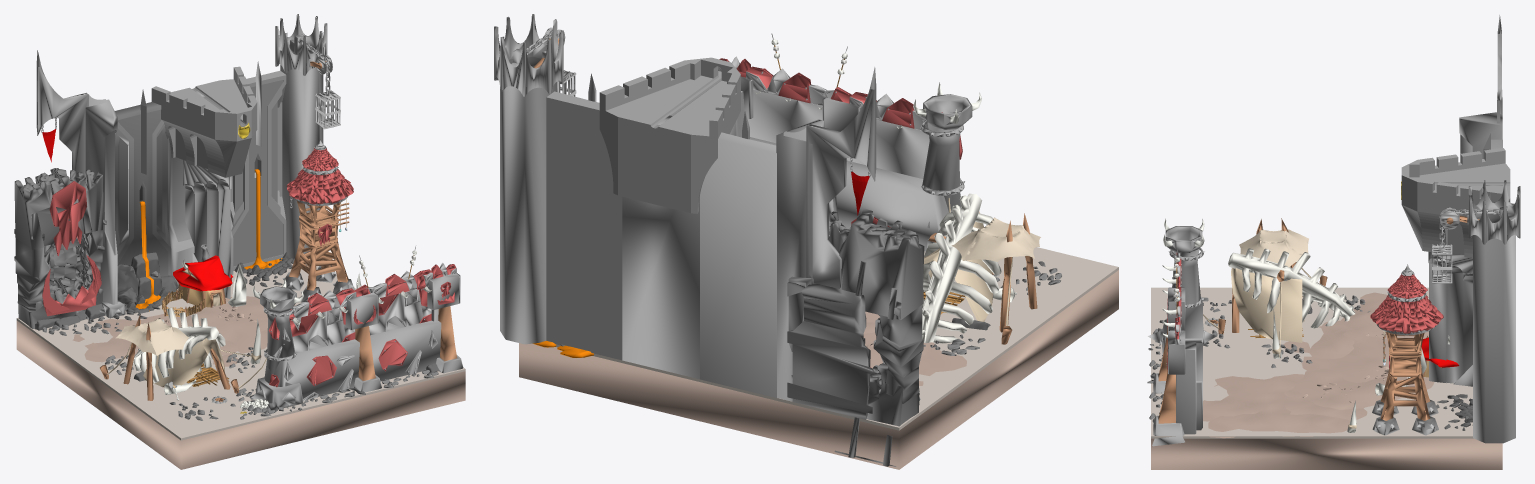
The model's file is Assets_Scenario_3.fbx.
3 renders of one model, left to right at view 1: azimuth 30°, elevation 25°; view 2: azimuth 150°, elevation 25°; view 3: azimuth 270°, elevation 25°, orthographic. The views are drawn at different scales.
Visible parts, largest first — view 1: Cube (1), Cube, Prop_Building_Dark_Fantasy_Fort_Wall_Window_01 (1), Prop_Building_Dark_Fantasy_Fort_Outcrop_01, Prop_Building_Dark_Fantasy_Fort_Wall_Window_01 (2), Prop_Building_Dark_Fantasy_Fort_Tower_Simple_01, Rock_Volcanic_Large_03 (1), Prop_Building_Dark_Fantasy_Fort_Divider_02, Prop_Building_Dark_Fantasy_Fort_Divider_01, Prop_Building_Dark_Fantasy_Fort_Adornment_Large_01, Prop_Building_Savage_Metal_Collar_Base_Attachment_09, Prop_Building_Dark_Fantasy_Fort_Wall_Simple_01 (+42 smaller); view 2: Cube (1), Prop_Building_Dark_Fantasy_Fort_Wall_Window_01 (1), Prop_Building_Dark_Fantasy_Fort_Wall_Window_01 (2), Prop_Building_Dark_Fantasy_Fort_Outcrop_01, Prop_Building_Dark_Fantasy_Fort_Wall_Simple_01, Prop_Building_Dark_Fantasy_Fort_Tower_Simple_01, Cube, Rock_Volcanic_Large_03 (4), Rock_Volcanic_Large_03 (1), Prop_Building_Dark_Fantasy_Fort_Adornment_Large_01, Prop_Building_Dark_Fantasy_Fort_Divider_01, Prop_Bones_Beast_Ribs_Spined_01 (+16 smaller); view 3: Cube, Cube (1), Prop_Building_Dark_Fantasy_Fort_Tower_Simple_01, Prop_Building_Dark_Fantasy_Fort_Outcrop_01, Prop_Building_Dark_Fantasy_Fort_Divider_02, Prop_Bones_Beast_Ribs_Spined_01, Terrain_Plane_Rock_Uneven_02 (4), Prop_Tent_Entrance_Cloth_Hide_01, Terrain_Plane_Rock_Uneven_02 (3), Terrain_Plane_Rock_Uneven_02 (5), Terrain_Plane_Rock_Uneven_02 (2), Prop_Building_Dark_Fantasy_Fort_Tower_Top_01 (+21 smaller).
Part boxes in pixels (left/top/right/bottom): Cube (1): left=16, top=320, right=465, bottom=469; Cube: left=16, top=263, right=465, bottom=440; Prop_Building_Dark_Fantasy_Fort_Wall_Window_01 (1): left=115, top=102, right=171, bottom=276; Prop_Building_Dark_Fantasy_Fort_Outcrop_01: left=151, top=66, right=257, bottom=177; Prop_Building_Dark_Fantasy_Fort_Wall_Window_01 (2): left=230, top=70, right=286, bottom=270; Prop_Building_Dark_Fantasy_Fort_Tower_Simple_01: left=280, top=65, right=323, bottom=258; Rock_Volcanic_Large_03 (1): left=14, top=168, right=103, bottom=249; Prop_Building_Dark_Fantasy_Fort_Divider_02: left=183, top=160, right=232, bottom=299; Prop_Building_Dark_Fantasy_Fort_Divider_01: left=85, top=99, right=117, bottom=304; Prop_Building_Dark_Fantasy_Fort_Adornment_Large_01: left=36, top=50, right=88, bottom=177; Prop_Building_Savage_Metal_Collar_Base_Attachment_09: left=264, top=339, right=359, bottom=398; Prop_Building_Dark_Fantasy_Fort_Wall_Simple_01: left=167, top=91, right=233, bottom=285; Cube (1): left=519, top=270, right=1118, bottom=469; Prop_Building_Dark_Fantasy_Fort_Wall_Window_01 (1): left=700, top=132, right=776, bottom=397; Prop_Building_Dark_Fantasy_Fort_Wall_Window_01 (2): left=546, top=91, right=622, bottom=360; Prop_Building_Dark_Fantasy_Fort_Outcrop_01: left=599, top=57, right=740, bottom=213; Prop_Building_Dark_Fantasy_Fort_Wall_Simple_01: left=622, top=115, right=699, bottom=379; Prop_Building_Dark_Fantasy_Fort_Tower_Simple_01: left=500, top=81, right=557, bottom=344; Cube: left=556, top=247, right=1118, bottom=430; Rock_Volcanic_Large_03 (4): left=787, top=283, right=875, bottom=419; Rock_Volcanic_Large_03 (1): left=828, top=208, right=924, bottom=319; Prop_Building_Dark_Fantasy_Fort_Adornment_Large_01: left=806, top=67, right=876, bottom=288; Prop_Building_Dark_Fantasy_Fort_Divider_01: left=776, top=119, right=823, bottom=401; Prop_Bones_Beast_Ribs_Spined_01: left=922, top=193, right=1001, bottom=343; Cube: left=1151, top=287, right=1473, bottom=438; Cube (1): left=1151, top=438, right=1502, bottom=469; Prop_Building_Dark_Fantasy_Fort_Tower_Simple_01: left=1473, top=235, right=1515, bottom=443; Prop_Building_Dark_Fantasy_Fort_Outcrop_01: left=1401, top=148, right=1510, bottom=257; Prop_Building_Dark_Fantasy_Fort_Divider_02: left=1428, top=252, right=1472, bottom=386; Prop_Bones_Beast_Ribs_Spined_01: left=1228, top=248, right=1355, bottom=328; Terrain_Plane_Rock_Uneven_02 (4): left=1203, top=374, right=1367, bottom=421; Prop_Tent_Entrance_Cloth_Hide_01: left=1231, top=268, right=1302, bottom=342; Terrain_Plane_Rock_Uneven_02 (3): left=1283, top=320, right=1428, bottom=382; Terrain_Plane_Rock_Uneven_02 (5): left=1206, top=388, right=1350, bottom=438; Terrain_Plane_Rock_Uneven_02 (2): left=1294, top=368, right=1434, bottom=409; Prop_Building_Dark_Fantasy_Fort_Tower_Top_01: left=1468, top=180, right=1520, bottom=244.
Size of the model in its own units: 2366 by 2191 by 2336.
